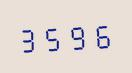five: (42, 21, 65, 52)
nine: (66, 19, 89, 51)
six: (90, 18, 113, 50)
three: (18, 22, 41, 54)
